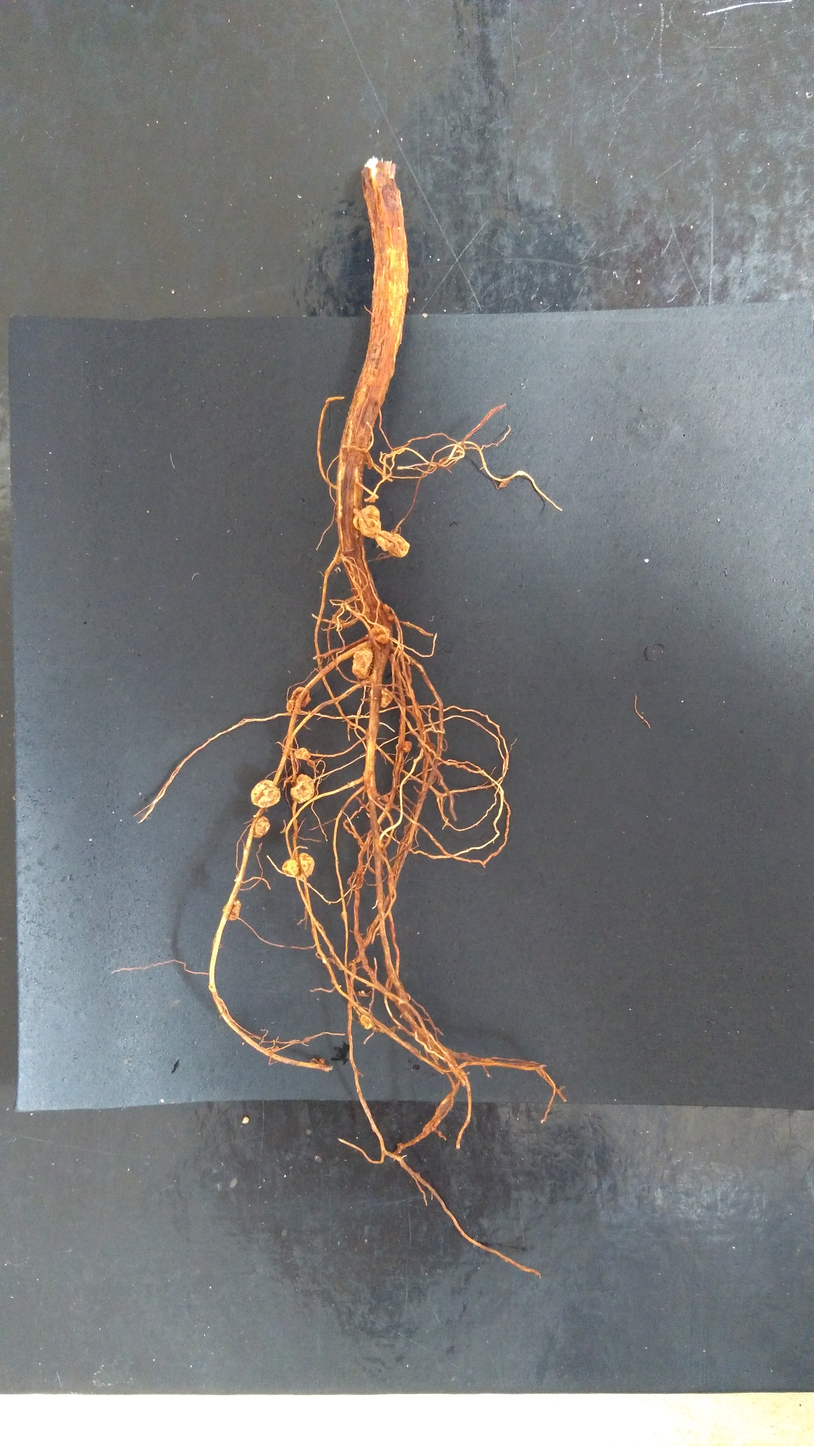nodule: (249, 778, 282, 809), (351, 503, 381, 532), (289, 772, 316, 804), (351, 647, 374, 679), (386, 533, 412, 560), (374, 529, 399, 553), (289, 686, 312, 709), (222, 897, 243, 922), (298, 851, 316, 879), (359, 519, 383, 539), (369, 624, 391, 645), (253, 816, 272, 839), (281, 857, 299, 877), (379, 686, 393, 709), (293, 746, 312, 761), (359, 1012, 373, 1031), (284, 699, 297, 712), (402, 739, 413, 753)
